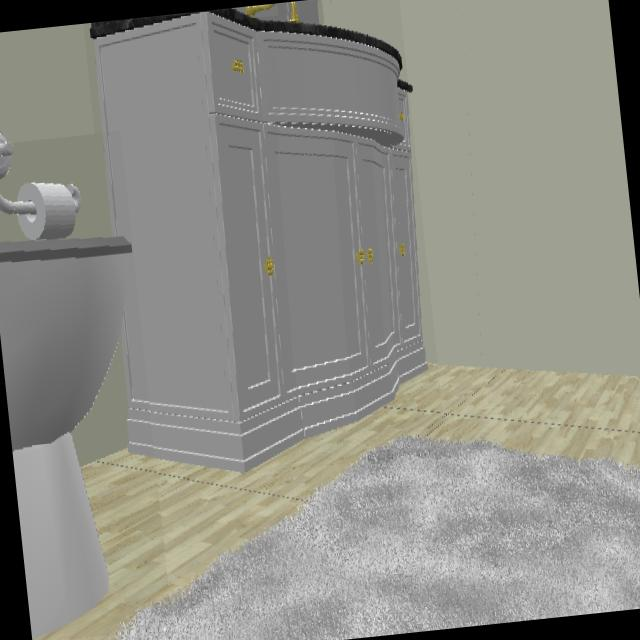cabinet: (93, 12, 428, 474)
toilet: (0, 190, 133, 640)
washbasin: (236, 4, 277, 18)
